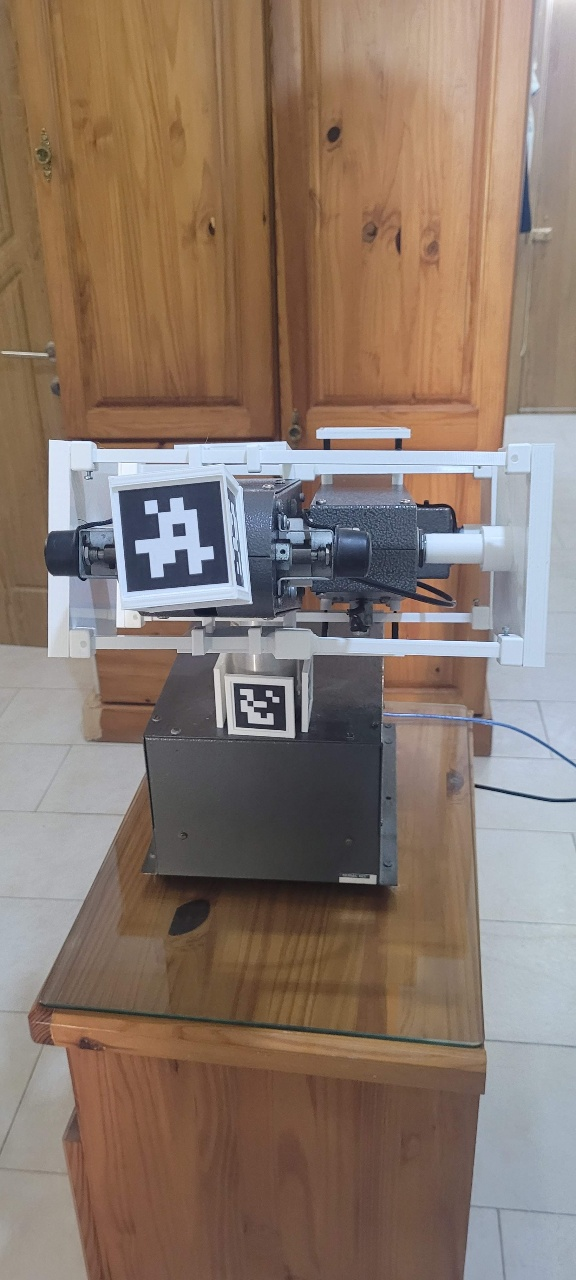Robot: (28, 232, 576, 1135)
